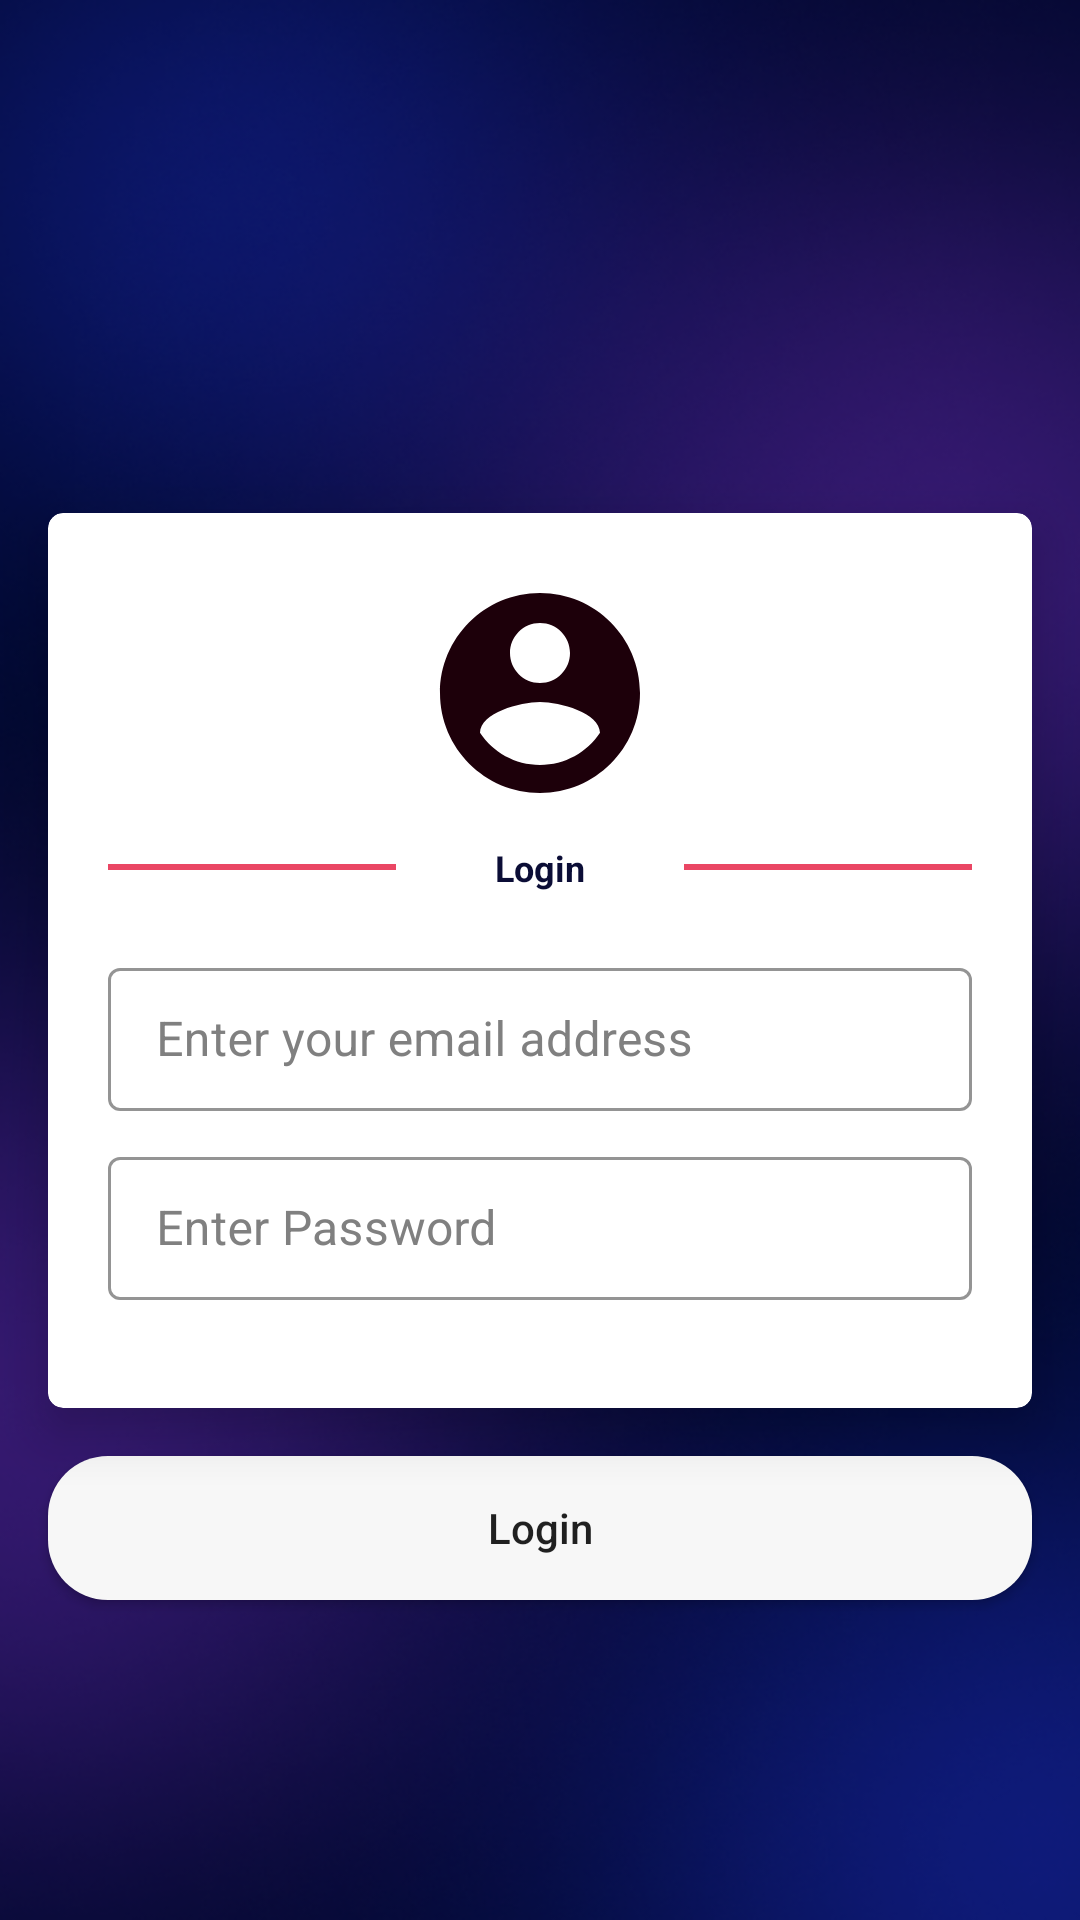

Locate icon controls on the screen. Image size 1080px x 1920px, boxes as rect(x1, y1, x2, y2).
account circle: rect(439, 593, 640, 793)
